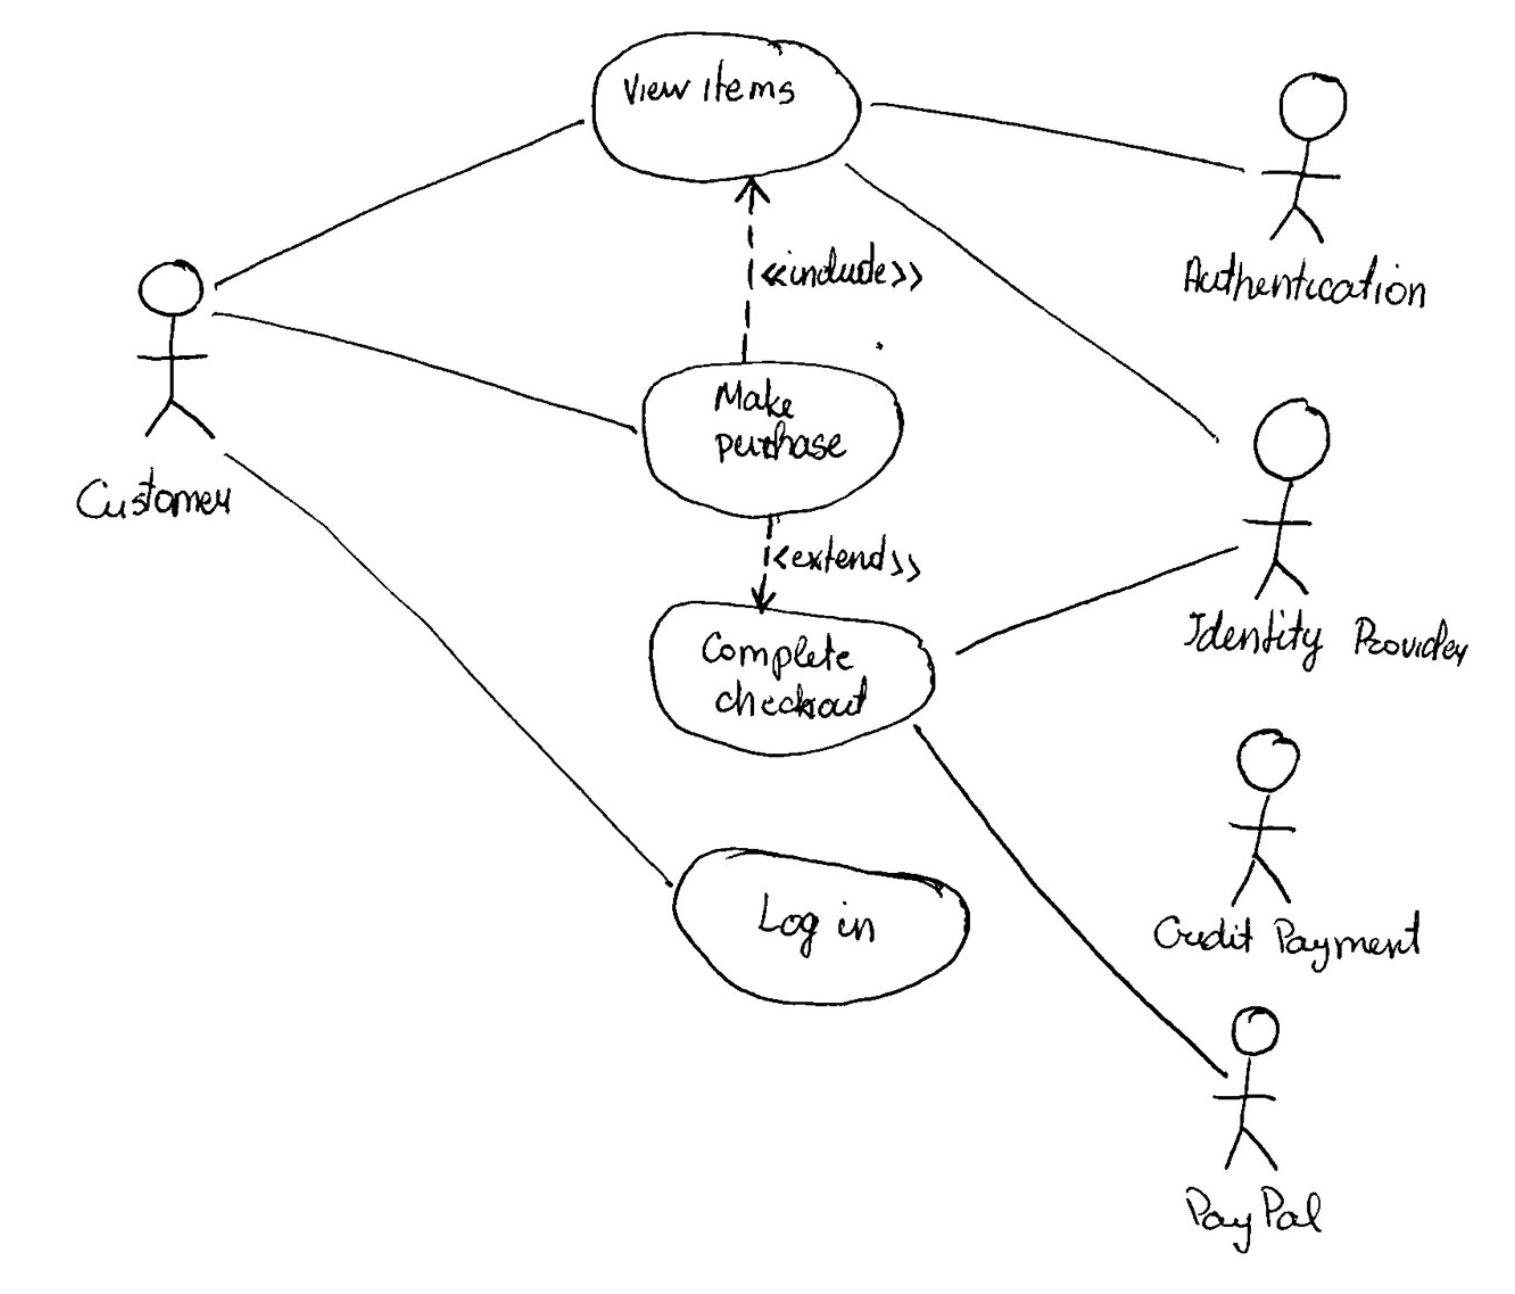actor: (1235, 397, 1331, 605), (1207, 718, 1307, 911), (126, 254, 217, 447), (1258, 60, 1348, 252), (1211, 1000, 1298, 1177)
association: (231, 454, 671, 884), (915, 727, 1230, 1083), (844, 160, 1226, 443), (209, 114, 582, 293), (212, 308, 638, 433), (949, 542, 1239, 656), (868, 98, 1251, 173)
text: (1181, 605, 1489, 680), (1175, 241, 1441, 322), (689, 619, 876, 724), (1147, 908, 1432, 976), (706, 377, 853, 479), (1179, 1180, 1348, 1261), (620, 54, 808, 121), (760, 243, 937, 309), (755, 881, 891, 965), (72, 461, 239, 528), (766, 531, 937, 591)
use_case: (671, 846, 968, 1005), (648, 602, 935, 757), (641, 358, 905, 521), (591, 28, 861, 184)
